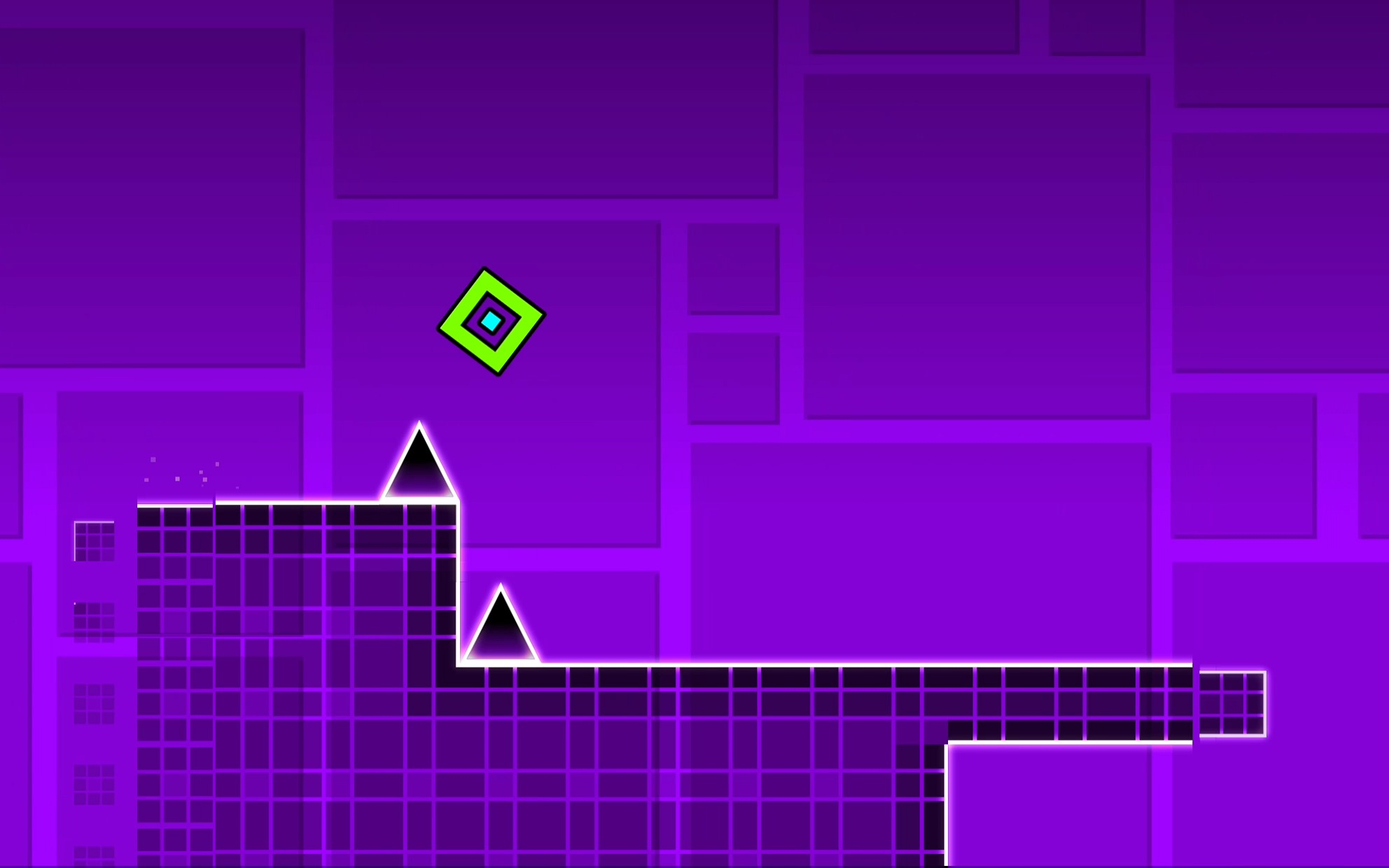Block2: (133, 661, 951, 868), (132, 506, 456, 663), (947, 666, 1277, 744)
Player: (434, 266, 545, 371)
Spike: (381, 423, 458, 504), (467, 585, 542, 664)
